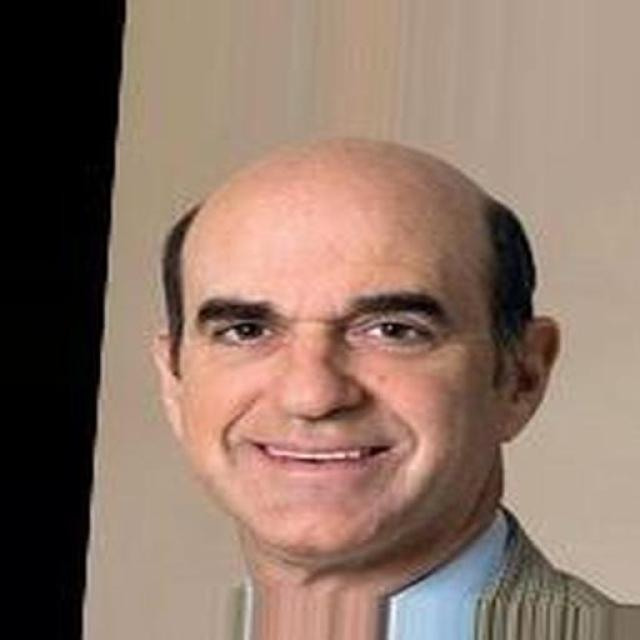bareface: (142, 125, 564, 556)
